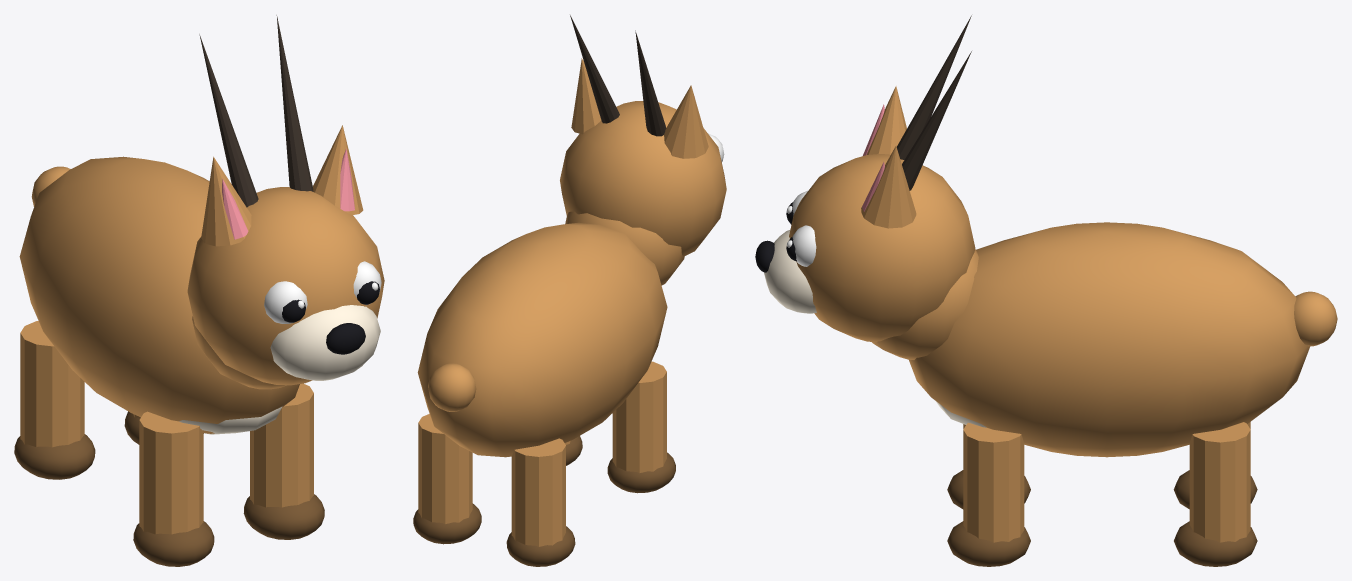
The picture shows the model from 3 angles, left to right: view 1: azimuth 30°, elevation 25°; view 2: azimuth 150°, elevation 25°; view 3: azimuth 270°, elevation 25°; orthographic projection. The views are drawn at different scales.
Parts seen in each view (by area): view 1: Gazelle; view 2: Gazelle; view 3: Gazelle.
Part boxes in pixels (x1=…): Gazelle: x1=14, y1=15, x2=384, y2=566; Gazelle: x1=413, y1=15, x2=726, y2=566; Gazelle: x1=755, y1=15, x2=1337, y2=566.
Bounding box in the file's own units: 1.44 × 3.65 × 3.82.
Materials: 1 (1 with a texture image).
